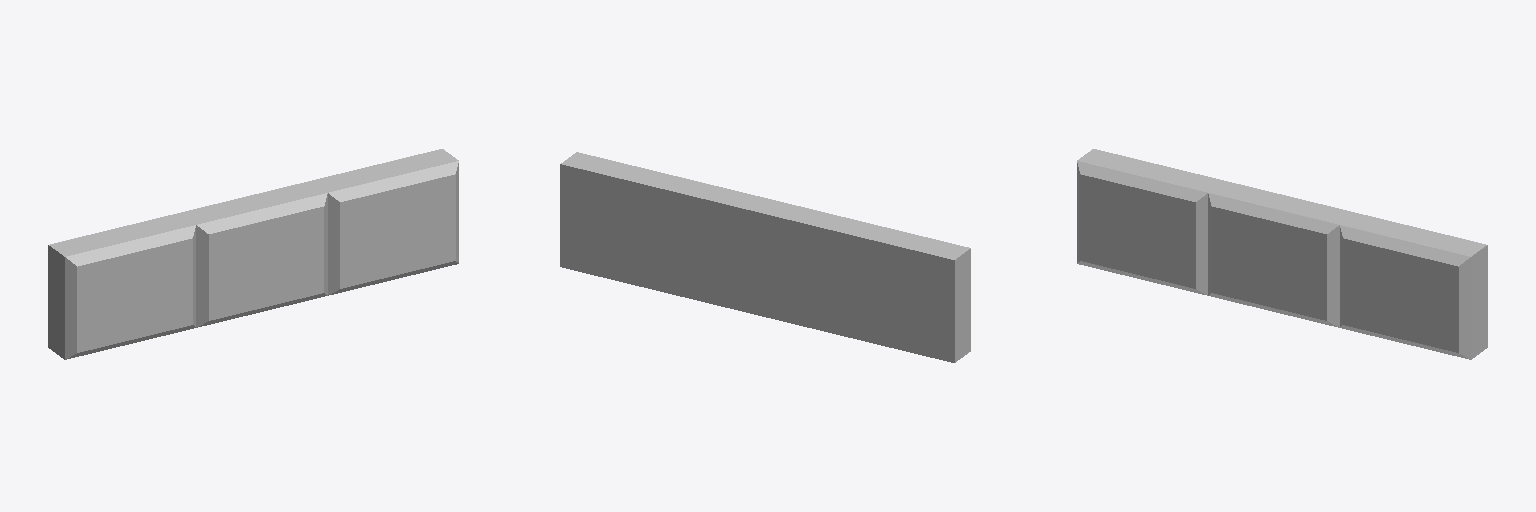
The model's file is 0_25m_Trim.obj.
The picture shows the model from 3 angles: view 1: azimuth 30°, elevation 25°; view 2: azimuth 150°, elevation 25°; view 3: azimuth 330°, elevation 25°; orthographic projection.
Visible parts, largest first — view 1: Cube.004; view 2: Cube.004; view 3: Cube.004.
Boxes of the visible parts, <box> form: Cube.004: <box>48,149,458,359</box>; Cube.004: <box>560,152,970,362</box>; Cube.004: <box>1077,149,1487,359</box>.
Size of the model in its own units: 1 by 0.25 by 0.0928.